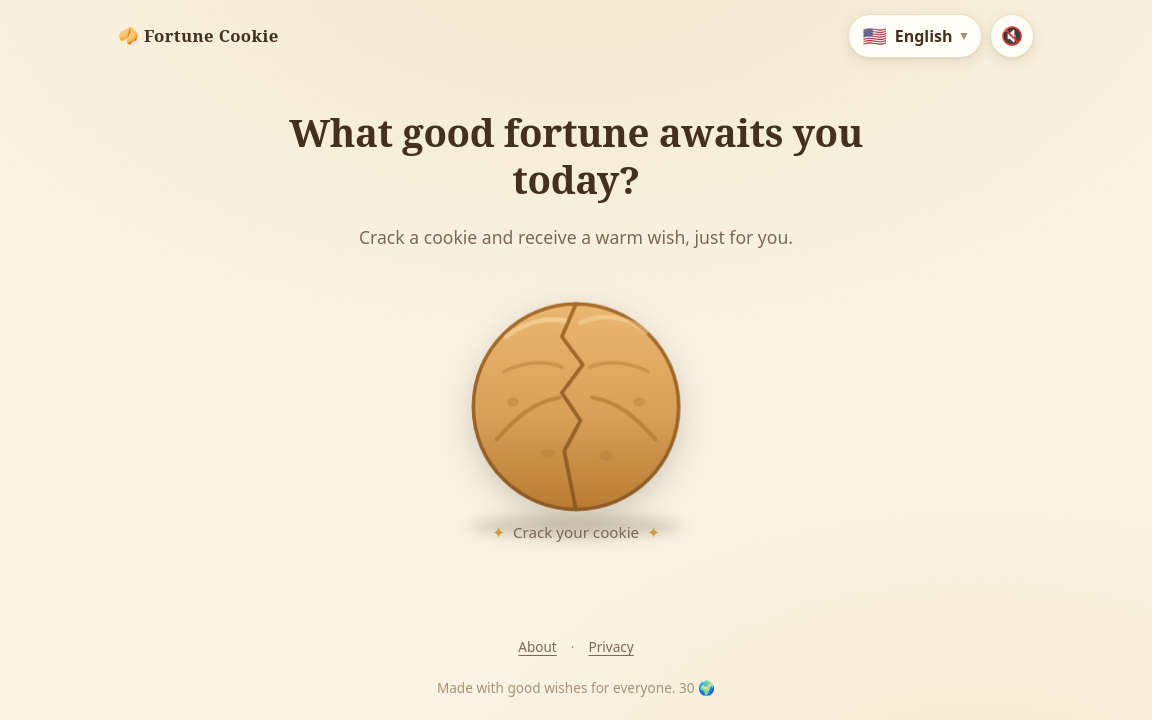
Test: Fortune Cookie experience › increments the session counter on each reveal
The image size is (1152, 720).
Click the button with test id "cookie": (576, 406) [416, 273, 736, 540]
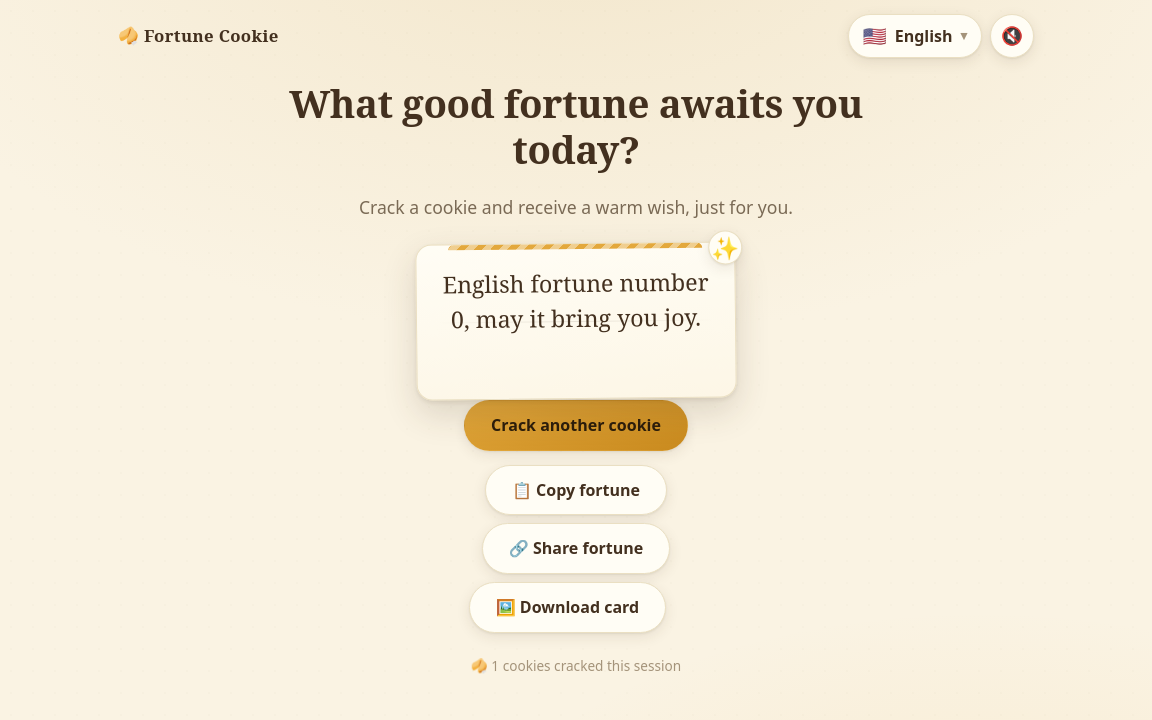
Expected: the element with test id "cookie-counter" shows "1", [491, 656, 681, 675]
Click the button with test id "crack-another": (576, 425) [464, 400, 688, 451]
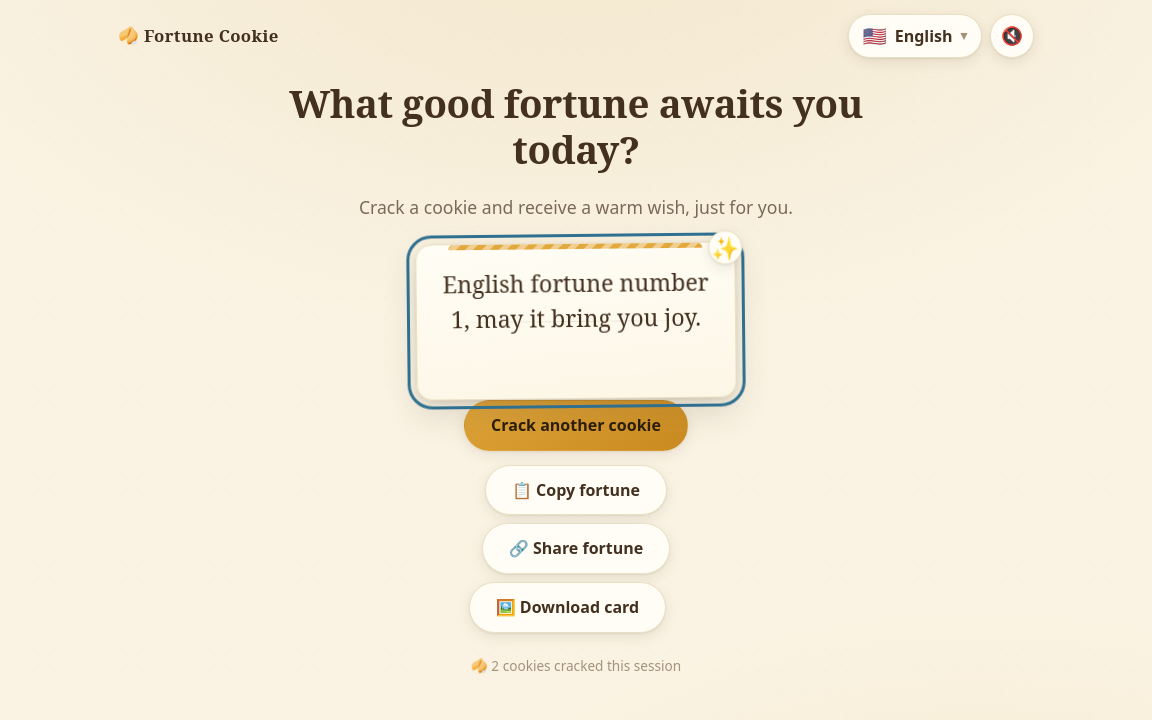
Expected: the text "English fortune number 1, may it bring you joy." is shown, [438, 265, 714, 372]
Expected: the element with test id "cookie-counter" shows "2", [491, 656, 681, 675]
